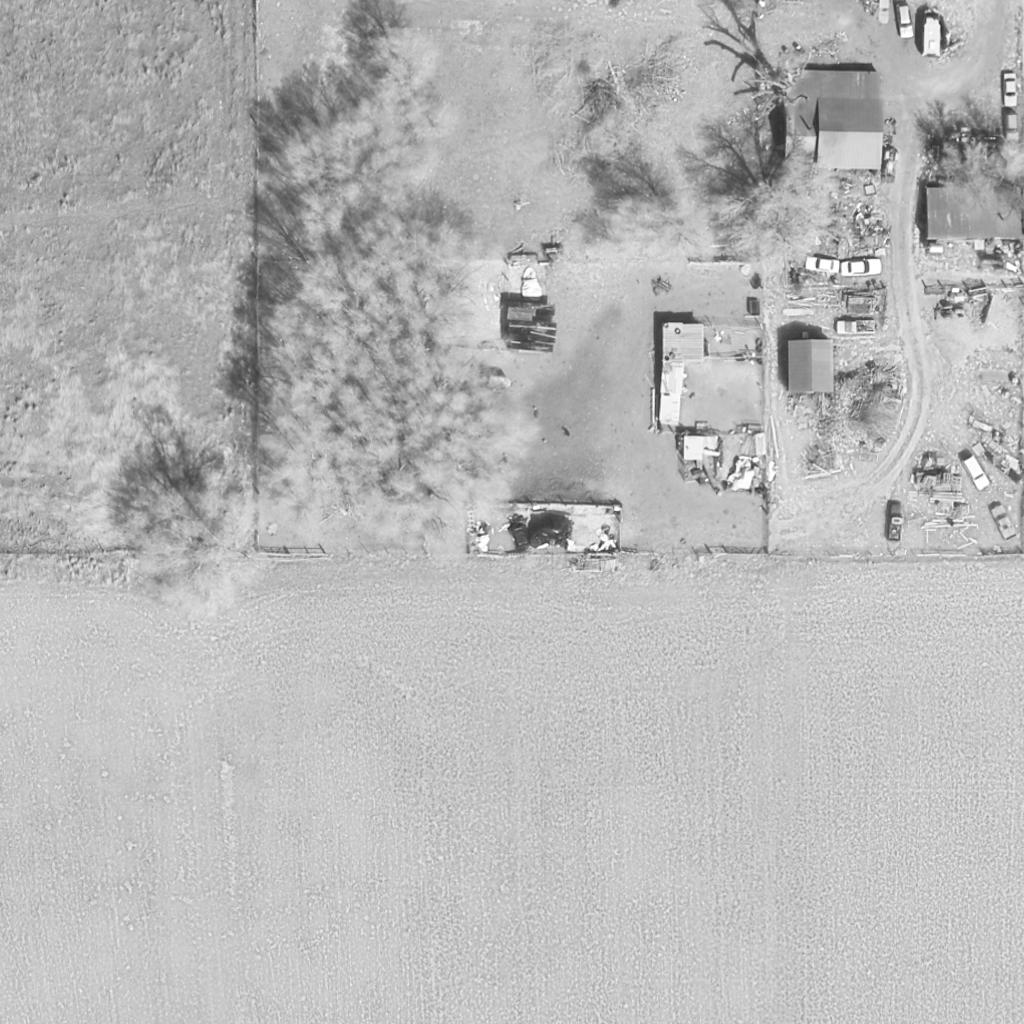vehicle: (658, 359, 684, 427), (960, 453, 992, 491), (991, 505, 1019, 541), (923, 9, 941, 57), (894, 3, 916, 39), (508, 521, 532, 551), (887, 502, 903, 544), (805, 256, 841, 274), (881, 147, 899, 183), (841, 260, 881, 276), (1002, 73, 1020, 107), (835, 321, 877, 335), (1002, 113, 1022, 141), (946, 127, 972, 145)
